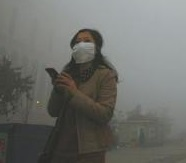person: (39, 25, 117, 163)
